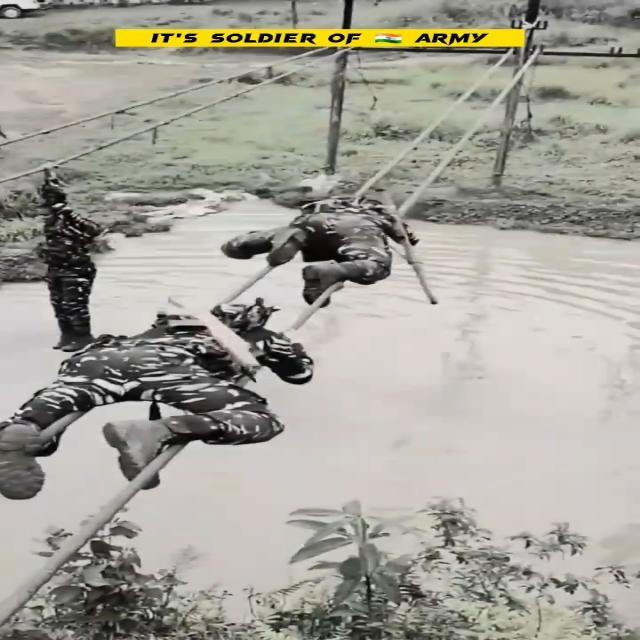MIL_Pax: (0, 316, 282, 499), (222, 198, 404, 303), (40, 170, 104, 352), (216, 300, 313, 382)
